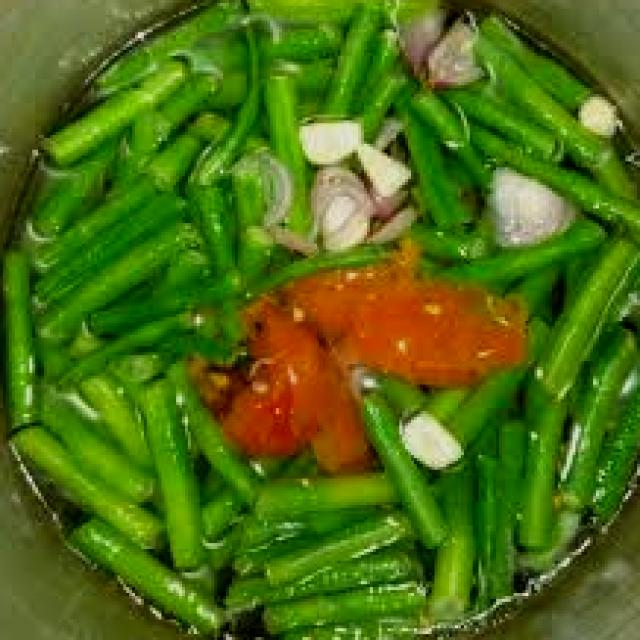kacang_panjang: (12, 0, 640, 634)
